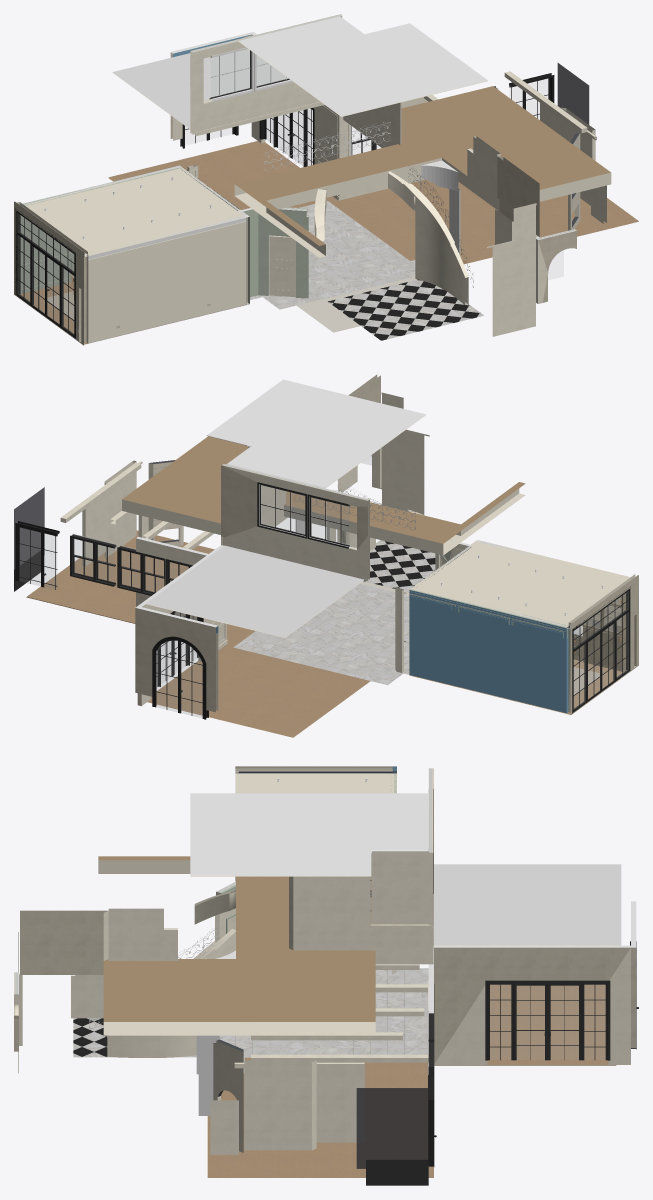
Rendered from dining-room-577daa1fc7ed.glb.
3 renders of one model, top to bottom at view 1: azimuth 30°, elevation 25°; view 2: azimuth 150°, elevation 25°; view 3: azimuth 270°, elevation 25°, orthographic. The views are drawn at different scales.
Parts seen in each view (by area): view 1: dining-room-look-2575515a05775d9e, dining-room-look-9d91b47435c6fb33, dining-room-d999b7e09afcf2f4, dining-room-look-3b0077416469e01b, dining-room-2575515a05775d9e, dining-room-look-ba376bd68a22f7f3, dining-room-look-4a969f5cc1ae3dfe, dining-room-look-c4ac463b6a960119, dining-room-08d72923bcfd3529, dining-room-look-245f595ae2832e16, dining-room-look-d5a4a1b5d3594c04, dining-room-look-8c6a7019fd0063e7 (+36 smaller); view 2: dining-room-look-3b0077416469e01b, dining-room-b19b106fc304963c, dining-room-look-9d91b47435c6fb33, dining-room-look-2575515a05775d9e, dining-room-look-4a969f5cc1ae3dfe, dining-room-2575515a05775d9e, dining-room-look-ba376bd68a22f7f3, dining-room-look-245f595ae2832e16, dining-room-08d72923bcfd3529, dining-room-look-969b861f9850351e, dining-room-look-b57b1dfcc6ff1bca, dining-room-look-d5a4a1b5d3594c04 (+23 smaller); view 3: dining-room-look-2575515a05775d9e, dining-room-look-3b0077416469e01b, dining-room-look-9d91b47435c6fb33, dining-room-look-4a969f5cc1ae3dfe, dining-room-look-e706aa16b4547c37, dining-room-look-3d5fbc3a2a5f9c05, dining-room-look-5b6bbac285e58726, dining-room-look-69af8f587252f9fa, dining-room-look-ba376bd68a22f7f3, dining-room-look-62353aa10fc57f23, dining-room-look-cbd4bf73d9724a66, dining-room-look-32b959c9aa406288 (+18 smaller).
Boxes of the visible parts, left/top/right/bottom form: dining-room-look-2575515a05775d9e: left=234, top=86, right=611, bottom=257; dining-room-look-9d91b47435c6fb33: left=238, top=16, right=487, bottom=116; dining-room-d999b7e09afcf2f4: left=88, top=216, right=246, bottom=342; dining-room-look-3b0077416469e01b: left=108, top=141, right=638, bottom=264; dining-room-2575515a05775d9e: left=15, top=166, right=249, bottom=256; dining-room-look-ba376bd68a22f7f3: left=250, top=200, right=415, bottom=309; dining-room-look-4a969f5cc1ae3dfe: left=112, top=49, right=288, bottom=129; dining-room-look-c4ac463b6a960119: left=328, top=279, right=483, bottom=340; dining-room-08d72923bcfd3529: left=15, top=208, right=75, bottom=338; dining-room-look-245f595ae2832e16: left=190, top=14, right=342, bottom=134; dining-room-look-d5a4a1b5d3594c04: left=487, top=235, right=535, bottom=336; dining-room-look-8c6a7019fd0063e7: left=388, top=171, right=468, bottom=305; dining-room-look-3b0077416469e01b: left=26, top=530, right=370, bottom=737; dining-room-b19b106fc304963c: left=409, top=590, right=567, bottom=713; dining-room-look-9d91b47435c6fb33: left=206, top=379, right=425, bottom=488; dining-room-look-2575515a05775d9e: left=122, top=436, right=525, bottom=555; dining-room-look-4a969f5cc1ae3dfe: left=146, top=545, right=364, bottom=637; dining-room-2575515a05775d9e: left=410, top=541, right=637, bottom=628; dining-room-look-ba376bd68a22f7f3: left=233, top=584, right=409, bottom=684; dining-room-look-245f595ae2832e16: left=221, top=464, right=369, bottom=580; dining-room-08d72923bcfd3529: left=572, top=586, right=630, bottom=713; dining-room-look-969b861f9850351e: left=135, top=606, right=218, bottom=712; dining-room-look-b57b1dfcc6ff1bca: left=152, top=636, right=208, bottom=719; dining-room-look-d5a4a1b5d3594c04: left=382, top=429, right=429, bottom=514; dining-room-look-2575515a05775d9e: left=98, top=856, right=375, bottom=1035; dining-room-look-3b0077416469e01b: left=207, top=984, right=616, bottom=1177; dining-room-look-9d91b47435c6fb33: left=190, top=793, right=428, bottom=876; dining-room-look-4a969f5cc1ae3dfe: left=433, top=864, right=621, bottom=945; dining-room-look-e706aa16b4547c37: left=434, top=945, right=630, bottom=1064; dining-room-look-3d5fbc3a2a5f9c05: left=485, top=980, right=610, bottom=1060; dining-room-look-5b6bbac285e58726: left=244, top=1060, right=316, bottom=1150; dining-room-look-69af8f587252f9fa: left=289, top=876, right=370, bottom=950; dining-room-look-ba376bd68a22f7f3: left=219, top=968, right=428, bottom=1072; dining-room-look-62353aa10fc57f23: left=20, top=910, right=108, bottom=974; dining-room-look-cbd4bf73d9724a66: left=356, top=1088, right=428, bottom=1168; dining-room-look-32b959c9aa406288: left=371, top=851, right=428, bottom=923.
Size of the model in its own units: 20 by 6.36 by 16.84.
47 materials, 15 textured.
